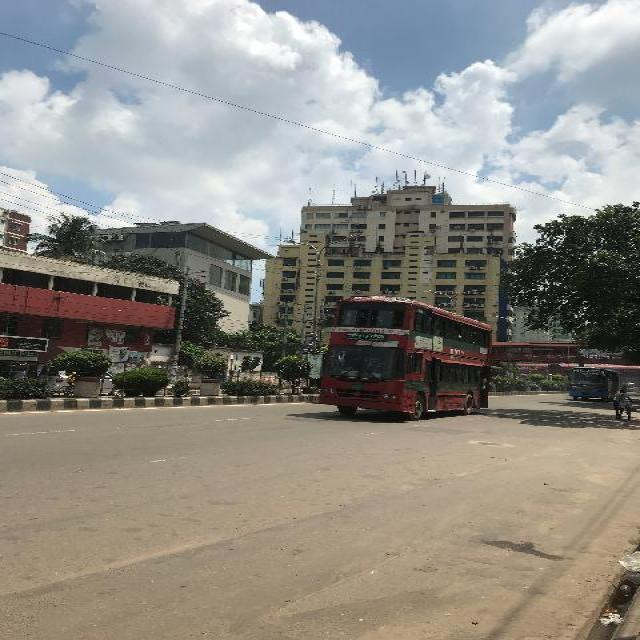bicycle: (614, 388, 637, 424)
bus: (316, 295, 492, 421), (566, 366, 618, 402)
